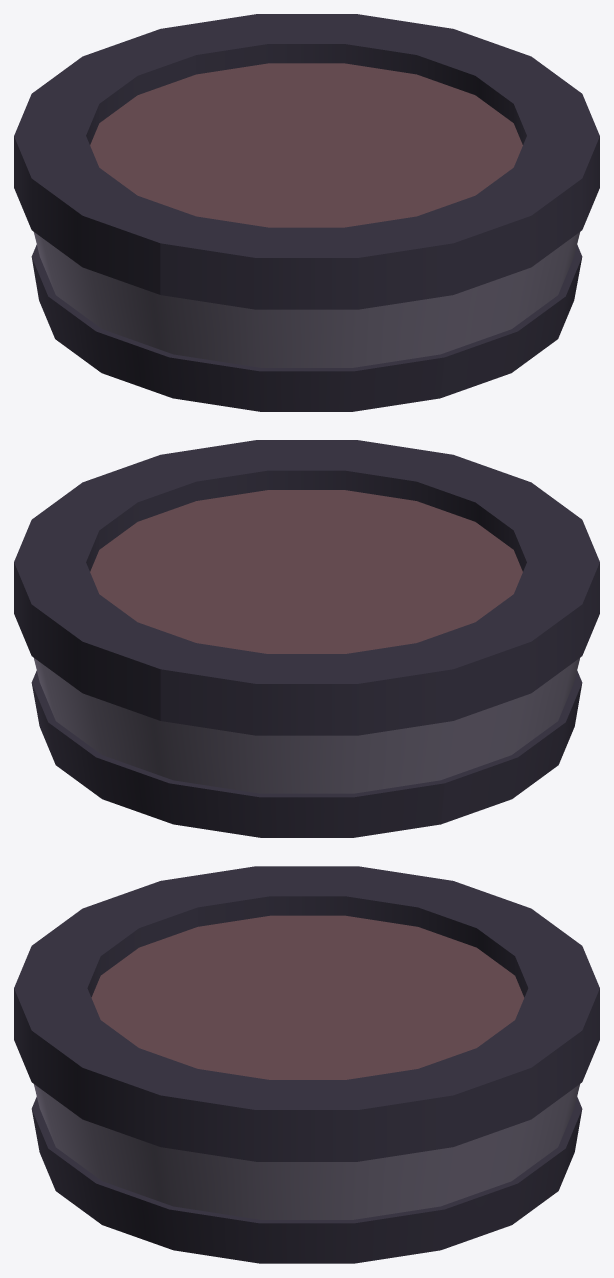
The model's file is stone_flower_bed_02.fbx.
3 views of the same model, one above another, from view 1: azimuth 30°, elevation 25°; view 2: azimuth 150°, elevation 25°; view 3: azimuth 270°, elevation 25° (orthographic).
Visible parts, largest first — view 1: stone_flower_bed_02; view 2: stone_flower_bed_02; view 3: stone_flower_bed_02.
Part boxes in pixels (x1=…): stone_flower_bed_02: x1=14, y1=14, x2=599, y2=411; stone_flower_bed_02: x1=14, y1=440, x2=599, y2=837; stone_flower_bed_02: x1=14, y1=866, x2=599, y2=1263.
Bounding box in the file's own units: 182 × 57.19 × 185.
